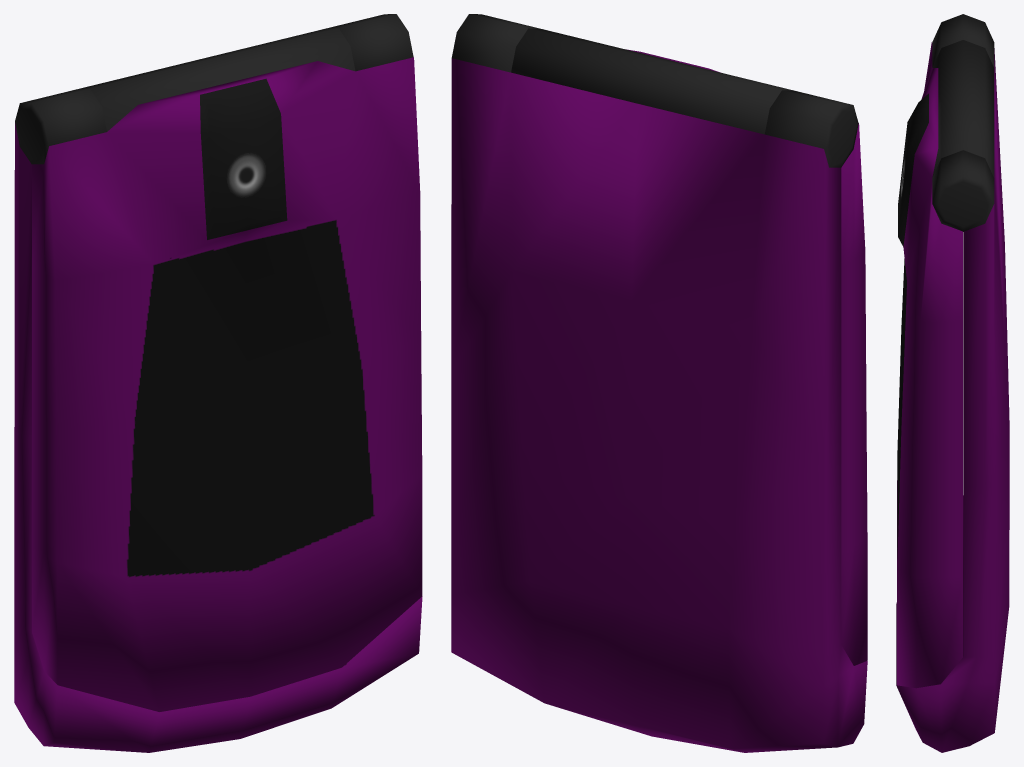
Rendered from Flip Razor.fbx.
The picture shows the model from 3 angles, left to right: view 1: azimuth 30°, elevation 25°; view 2: azimuth 150°, elevation 25°; view 3: azimuth 270°, elevation 25°; orthographic projection. The views are drawn at different scales.
Parts seen in each view (by area): view 1: Flip Phone Top, Flip Phone Bottom; view 2: Flip Phone Bottom, Flip Phone Top; view 3: Flip Phone Top, Flip Phone Bottom.
Boxes of the visible parts, x1,y1,x2,y2 form: Flip Phone Top: [32, 28, 422, 711]; Flip Phone Bottom: [14, 14, 422, 752]; Flip Phone Bottom: [451, 14, 867, 752]; Flip Phone Top: [511, 28, 867, 665]; Flip Phone Top: [897, 40, 994, 688]; Flip Phone Bottom: [896, 14, 1009, 752].
Size of the model in its own units: 10.26 by 17.91 by 3.02.
